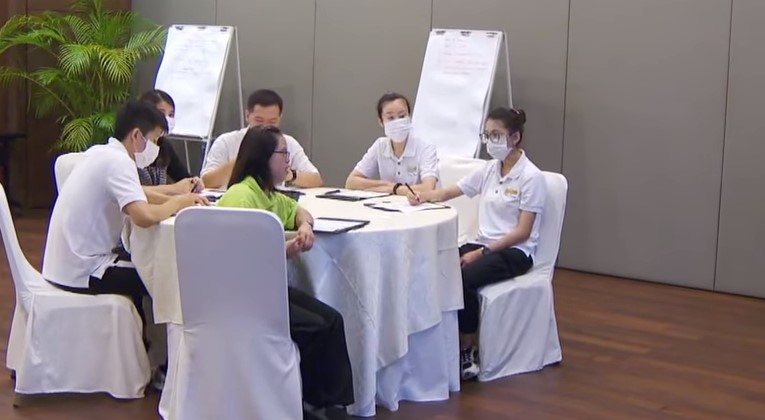face_no_mask: (239, 128, 294, 188), (245, 90, 283, 130)
face_with_mask: (118, 99, 164, 169), (480, 107, 522, 162), (374, 92, 415, 143)
